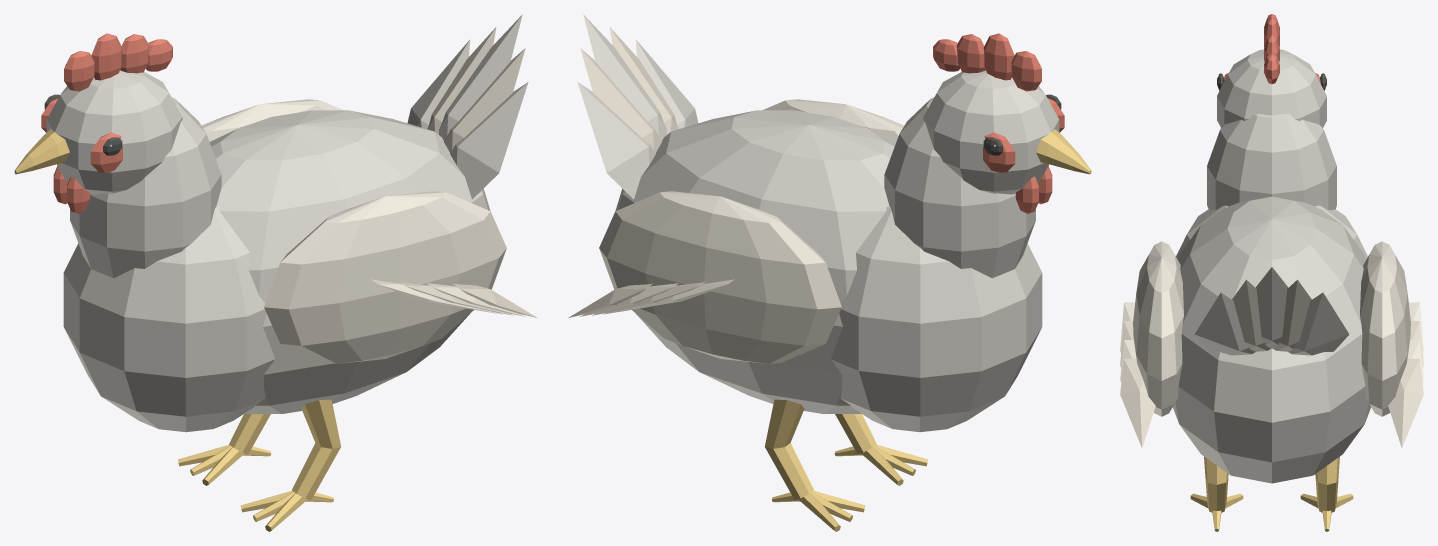
The model's file is hen.glb.
3 views of the same model, side by side, from view 1: azimuth 30°, elevation 25°; view 2: azimuth 150°, elevation 25°; view 3: azimuth 270°, elevation 25° (orthographic). The views are drawn at different scales.
Parts seen in each view (by area): view 1: body_coat, wingL_wing, Neck, Head, tail_coat, head_red, tail_shade, Leg_L, wingR_wing, footL_yellow, footR_yellow, wingL_shade (+2 smaller); view 2: body_coat, wingR_wing, Neck, Head, tail_coat, head_red, tail_shade, Leg_R, wingL_wing, footR_yellow, footL_yellow, wingR_shade (+2 smaller); view 3: body_coat, Neck, wingL_wing, wingR_wing, tail_coat, Head, tail_shade, wingL_shade, wingR_shade, head_red, Leg_L, Leg_R (+2 smaller).
Part boxes in pixels (<box>): body_coat: <box>63,110,490,432</box>; wingL_wing: <box>264,191,525,363</box>; Neck: <box>70,97,221,278</box>; Head: <box>46,70,182,194</box>; tail_coat: <box>407,14,528,199</box>; head_red: <box>41,33,172,214</box>; tail_shade: <box>427,27,525,151</box>; Leg_L: <box>292,399,341,500</box>; wingR_wing: <box>202,99,343,141</box>; footL_yellow: <box>240,490,333,531</box>; footR_yellow: <box>178,444,271,485</box>; wingL_shade: <box>400,282,537,317</box>; body_coat: <box>615,110,1042,432</box>; wingR_wing: <box>580,191,841,363</box>; Neck: <box>884,97,1035,278</box>; Head: <box>923,70,1059,194</box>; tail_coat: <box>577,14,698,199</box>; head_red: <box>933,33,1064,214</box>; tail_shade: <box>580,27,678,151</box>; Leg_R: <box>764,399,813,500</box>; wingL_wing: <box>762,99,903,141</box>; footR_yellow: <box>772,490,865,531</box>; footL_yellow: <box>834,444,927,485</box>; wingR_shade: <box>568,282,705,317</box>; body_coat: <box>1173,196,1370,483</box>; Neck: <box>1207,114,1336,209</box>; wingL_wing: <box>1120,241,1183,416</box>; wingR_wing: <box>1360,241,1423,416</box>; tail_coat: <box>1194,267,1349,355</box>; Head: <box>1217,49,1326,127</box>; tail_shade: <box>1232,280,1311,351</box>; wingL_shade: <box>1120,321,1155,448</box>; wingR_shade: <box>1388,321,1423,448</box>; head_red: <box>1223,14,1320,83</box>; Leg_L: <box>1204,456,1228,512</box>; Leg_R: <box>1315,456,1339,512</box>.
Size of the model in its own units: 0.261 by 0.2431 by 0.1544.
